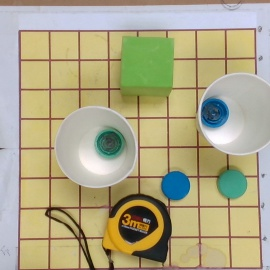blue: (161, 170, 190, 200)
cup_blue: (190, 73, 270, 156)
cup_green: (55, 105, 141, 190)
green: (216, 170, 248, 199)
